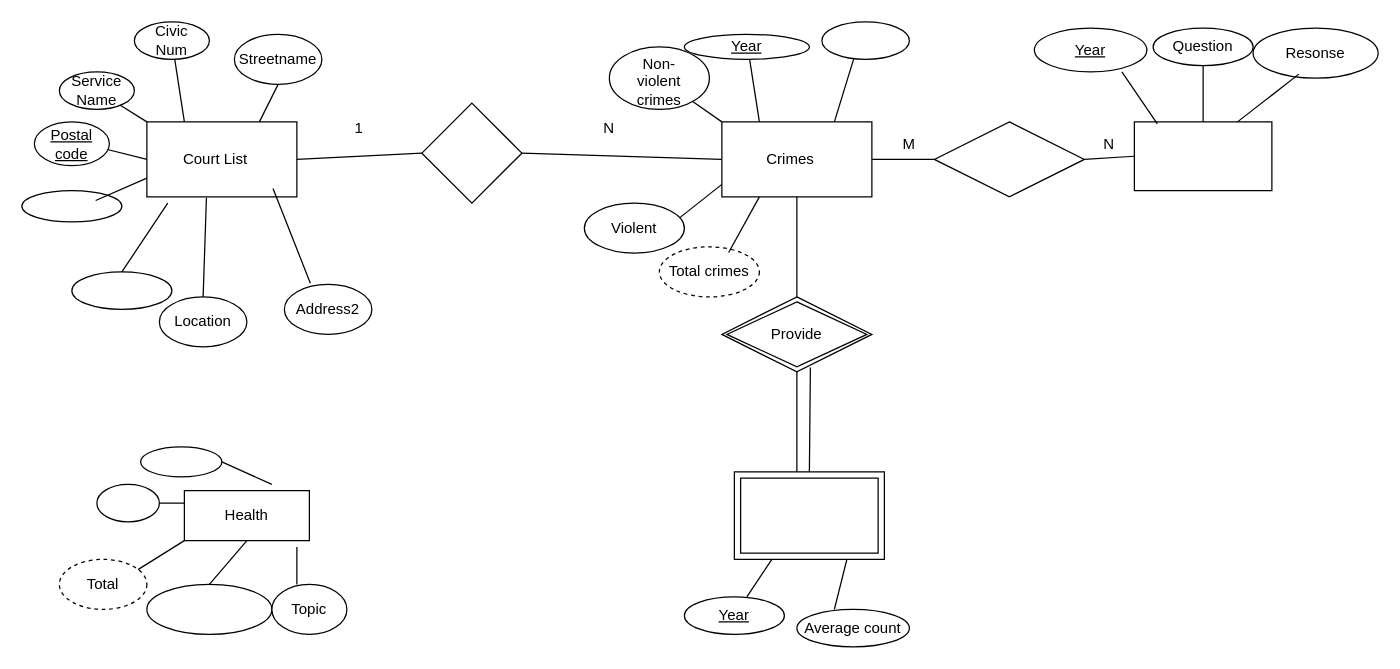
Image size: 1400x669. Some labels were removed from this diagram. The shapes that lost their labels are listed below. From the top down, each one's centre as x and y in pixels, then its label:
At pixel 865 40: "Geograpgy".
At pixel 471 152: "Solve".
At pixel 1008 159: "Result in".
At pixel 1202 156: "Crime Surveys".
At pixel 71 205: "City".
At pixel 121 290: "Provine".
At pixel 180 461: "Female".
At pixel 127 502: "Male".
At pixel 808 515: "Crime Count".
At pixel 209 608: "Characteristics".
